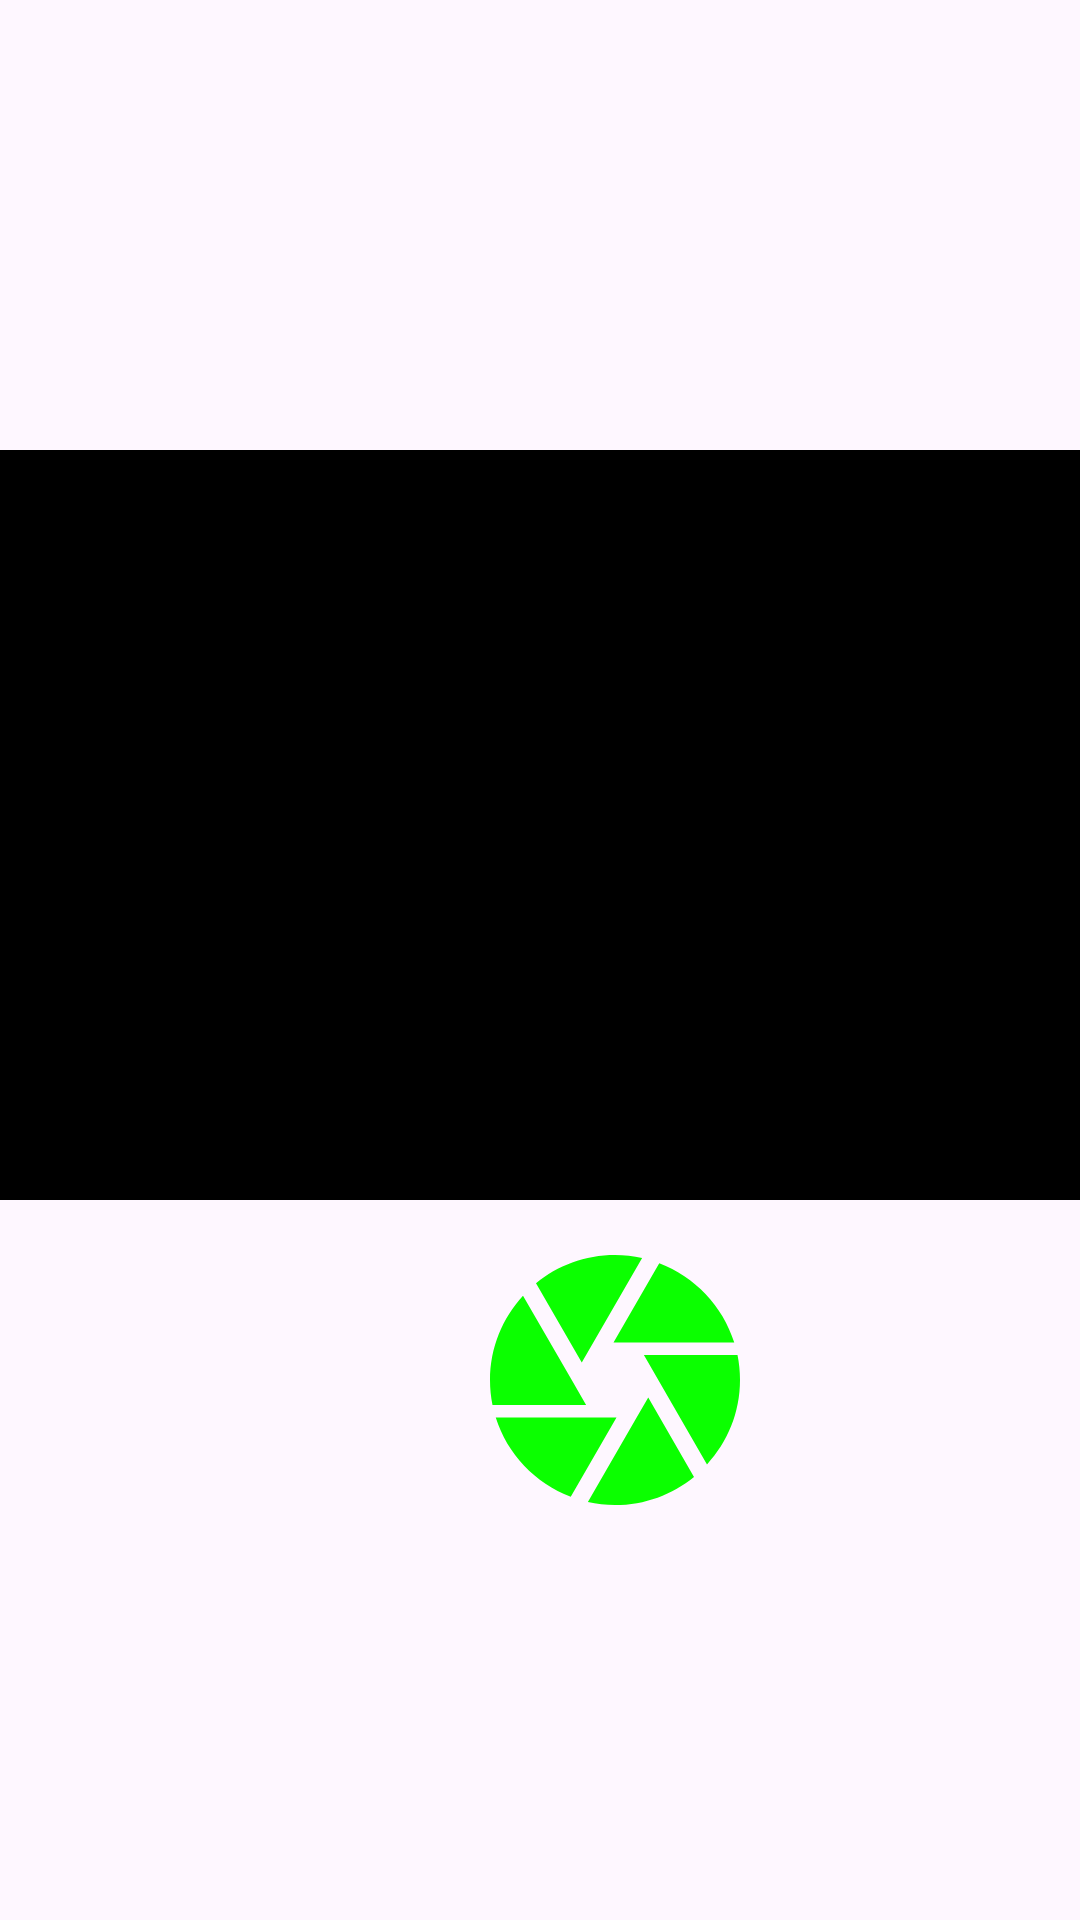

Screen size 1080×1920. Icon name, then its box in pixels as (x1, y1, x2, y2):
takephoto: (490, 1255, 740, 1505)
